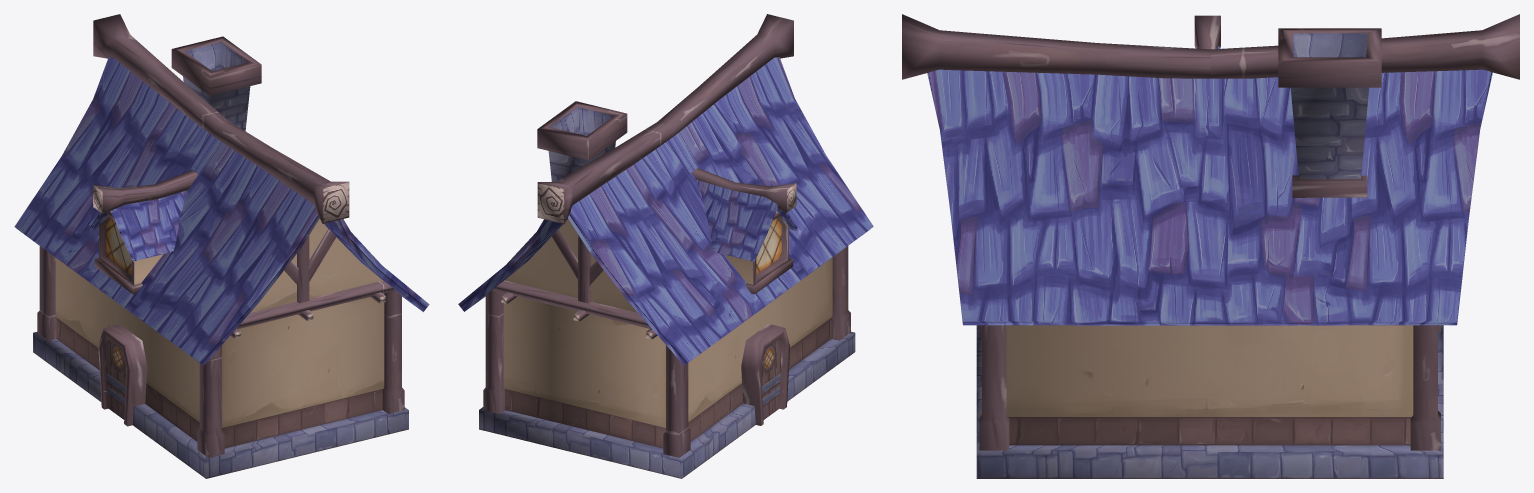
File: Medieval_House_01.fbx
3 renders of one model, left to right at view 1: azimuth 30°, elevation 25°; view 2: azimuth 150°, elevation 25°; view 3: azimuth 270°, elevation 25°, orthographic. The views are drawn at different scales.
Visible parts, largest first — view 1: Roof, Wood23_Wood16, Base, Window_Big, Chimney, Door; view 2: Roof, Wood23_Wood16, Base, Window_Big, Chimney, Door; view 3: Roof, Wood23_Wood16, Base, Chimney, Window_Big.
Part boxes in pixels (x1,y1,x2,y2): Roof: (14,14,429,365); Wood23_Wood16: (37,246,404,457); Base: (33,332,408,478); Window_Big: (89,170,197,294); Chimney: (171,36,261,131); Door: (98,324,147,426); Roof: (458,14,873,365); Wood23_Wood16: (483,246,850,457); Base: (479,331,855,478); Window_Big: (692,168,797,294); Chimney: (537,101,627,181); Door: (741,324,789,425); Roof: (902,14,1519,325); Wood23_Wood16: (979,325,1440,450); Base: (976,325,1443,478); Chimney: (1278,28,1381,197); Window_Big: (1194,15,1220,49).
Size of the model in its own units: 781 by 906 by 1287.
